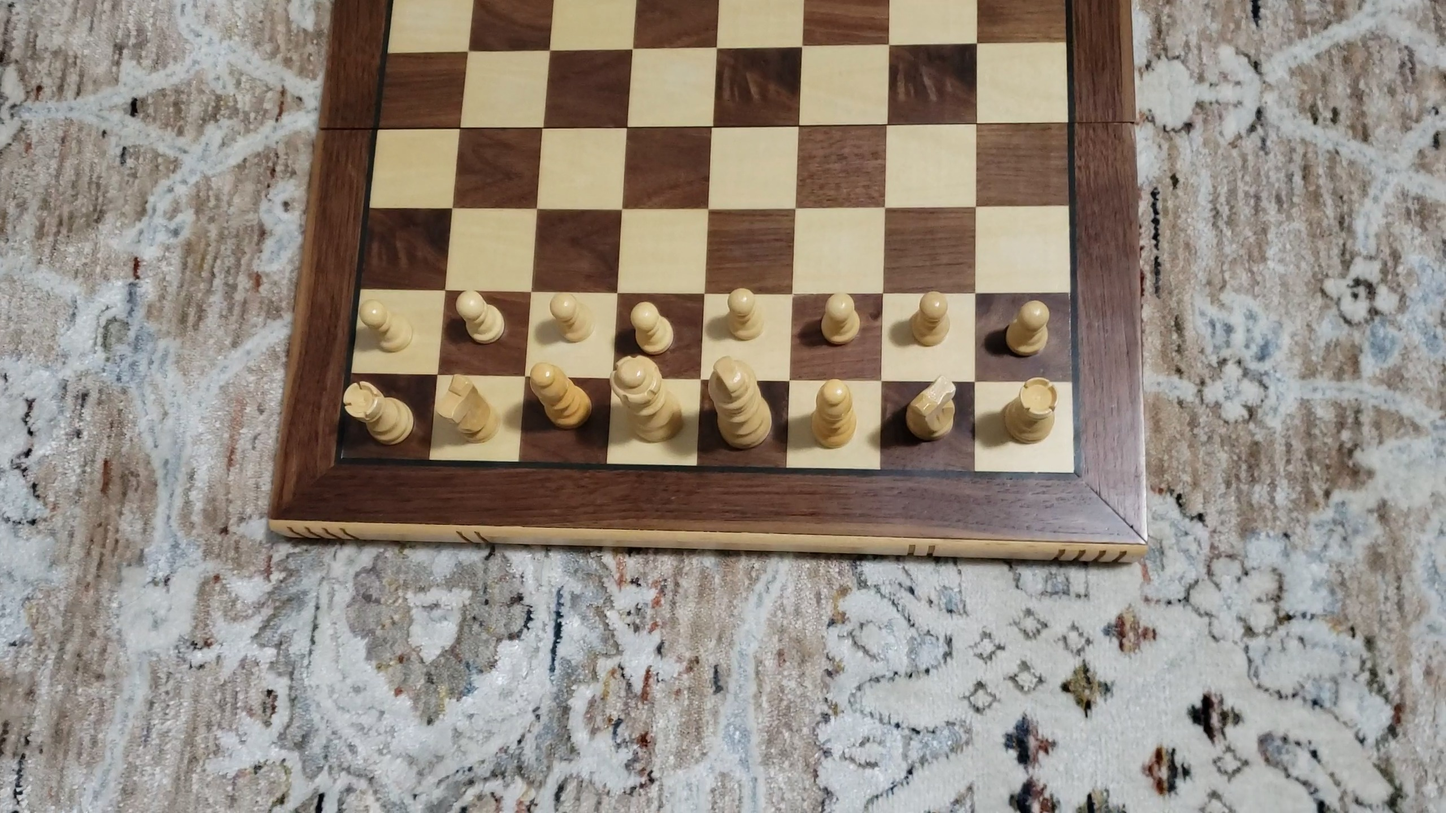white-bishop: (525, 361, 593, 431), (808, 374, 859, 453)
white-king: (704, 354, 776, 453)
white-knight: (433, 370, 503, 447), (900, 371, 960, 447)
white-pawn: (999, 296, 1055, 361), (356, 296, 416, 356), (454, 286, 508, 347), (906, 285, 956, 350), (625, 297, 677, 359), (719, 282, 766, 344), (815, 289, 863, 348), (546, 289, 595, 346)
white-queen: (607, 355, 687, 447)
white-rook: (995, 370, 1066, 446), (342, 379, 412, 447)
